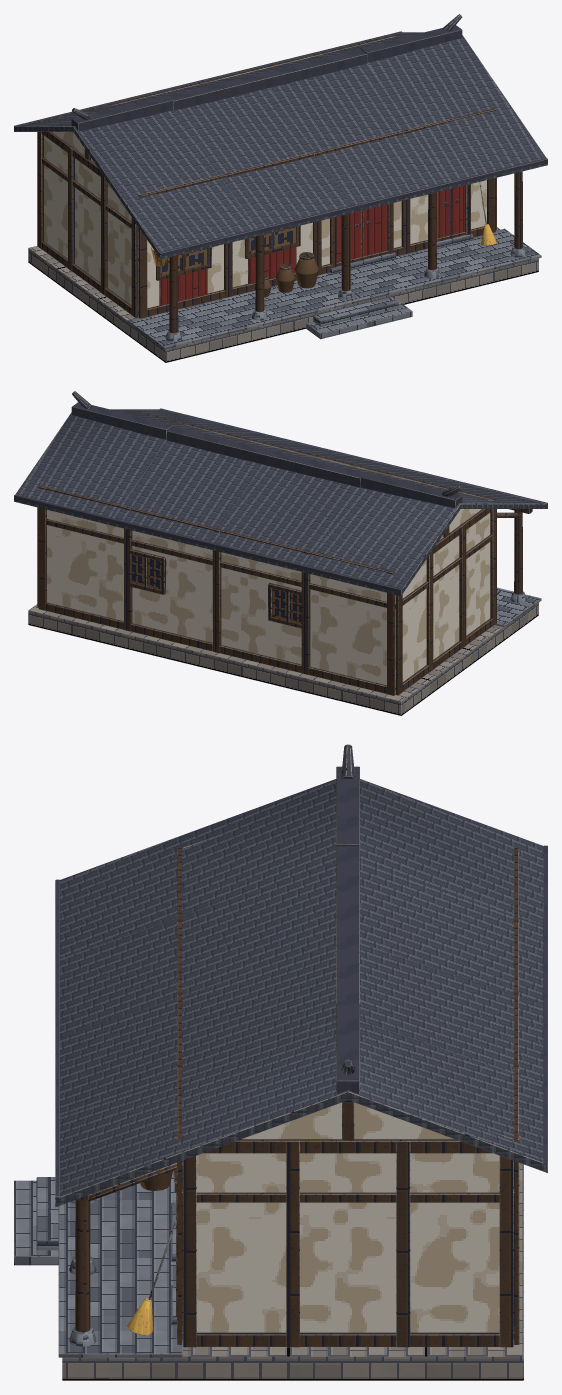
Rendered from cn_timber_house_0.glb.
3 views of the same model, one above another, from view 1: azimuth 30°, elevation 25°; view 2: azimuth 150°, elevation 25°; view 3: azimuth 270°, elevation 25° (orthographic). The views are drawn at different scales.
Visible parts, largest first — view 1: cn_timber_house_1; view 2: cn_timber_house_1; view 3: cn_timber_house_1.
Part boxes in pixels (x1,y1,x2,y2): cn_timber_house_1: (14,14,547,362); cn_timber_house_1: (14,391,547,715); cn_timber_house_1: (14,744,547,1380).
Bounding box in the file's own units: 10.96 × 5.21 × 7.75.
16 materials, 16 textured.
